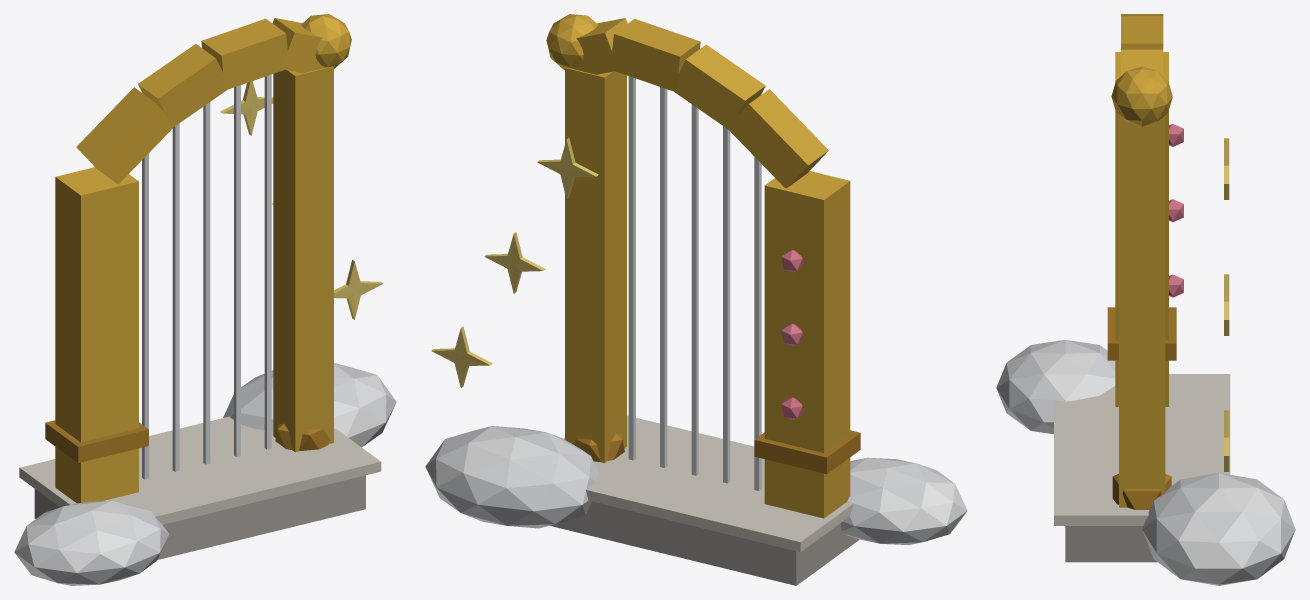
File: Decor_CloudTemple_HarpGarden.fbx
The picture shows the model from 3 angles, left to right: view 1: azimuth 30°, elevation 25°; view 2: azimuth 150°, elevation 25°; view 3: azimuth 270°, elevation 25°; orthographic projection. The views are drawn at different scales.
Visible parts, largest first — view 1: HarpGarden_Body; view 2: HarpGarden_Body; view 3: HarpGarden_Body.
Boxes of the visible parts, box(x1,y1,x2,y2) form: HarpGarden_Body: box(14, 14, 396, 585); HarpGarden_Body: box(425, 14, 967, 585); HarpGarden_Body: box(996, 14, 1295, 585).
Bounding box in the file's own units: 13.7 × 14.12 × 7.8.
